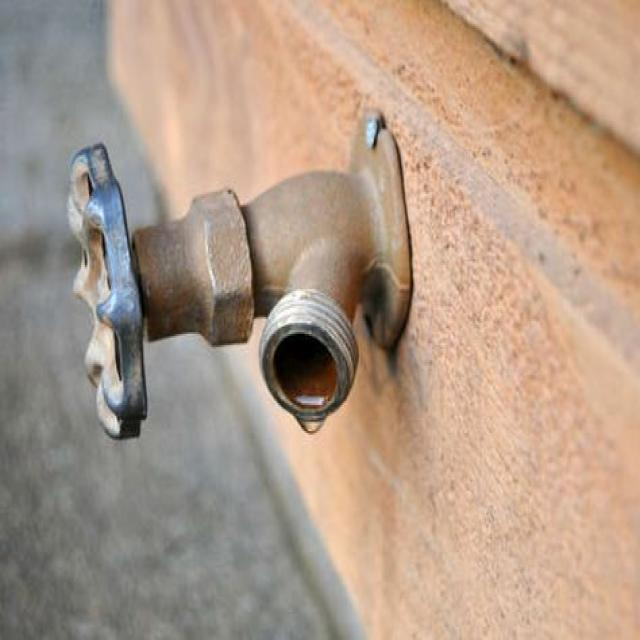Wheel Handle Valve Threaded: (54, 141, 162, 458)
